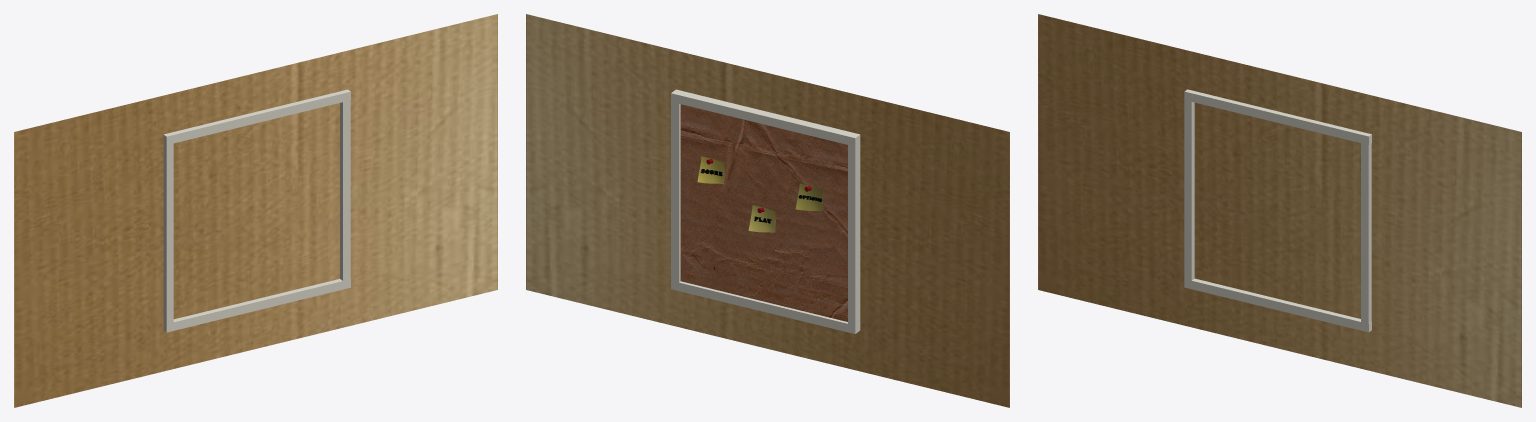
The model's file is Stickey Note Scene.fbx.
3 views of the same model, side by side, from view 1: azimuth 30°, elevation 25°; view 2: azimuth 150°, elevation 25°; view 3: azimuth 330°, elevation 25° (orthographic).
Visible parts, largest first — view 1: Background, Cube.003, Cube.002, Cube.001, Cube; view 2: Background, Cork Board, Cube.003, Cube.001, Cube.002, Cube, Play Note, Options Note, Score Note; view 3: Background, Cube.003, Cube.002, Cube, Cube.001.
Boxes of the visible parts, x1,y1,x2,y2 form: Background: (14,14,497,407); Cube.003: (163,89,350,144); Cube.002: (163,279,350,332); Cube.001: (163,143,173,331); Cube: (340,100,350,288); Background: (526,14,1009,407); Cork Board: (680,104,847,321); Cube.003: (671,89,860,146); Cube.001: (848,139,860,325); Cube.002: (671,280,860,333); Cube: (671,96,680,282); Play Note: (748,205,775,232); Options Note: (795,183,822,211); Score Note: (697,156,724,183); Background: (1038,14,1521,407); Cube.003: (1184,89,1371,144); Cube.002: (1184,278,1371,332); Cube: (1361,137,1371,331); Cube.001: (1184,100,1194,288).
Bounding box in the file's own units: 17402 × 9487 × 716.
13 materials, 2 textured.
